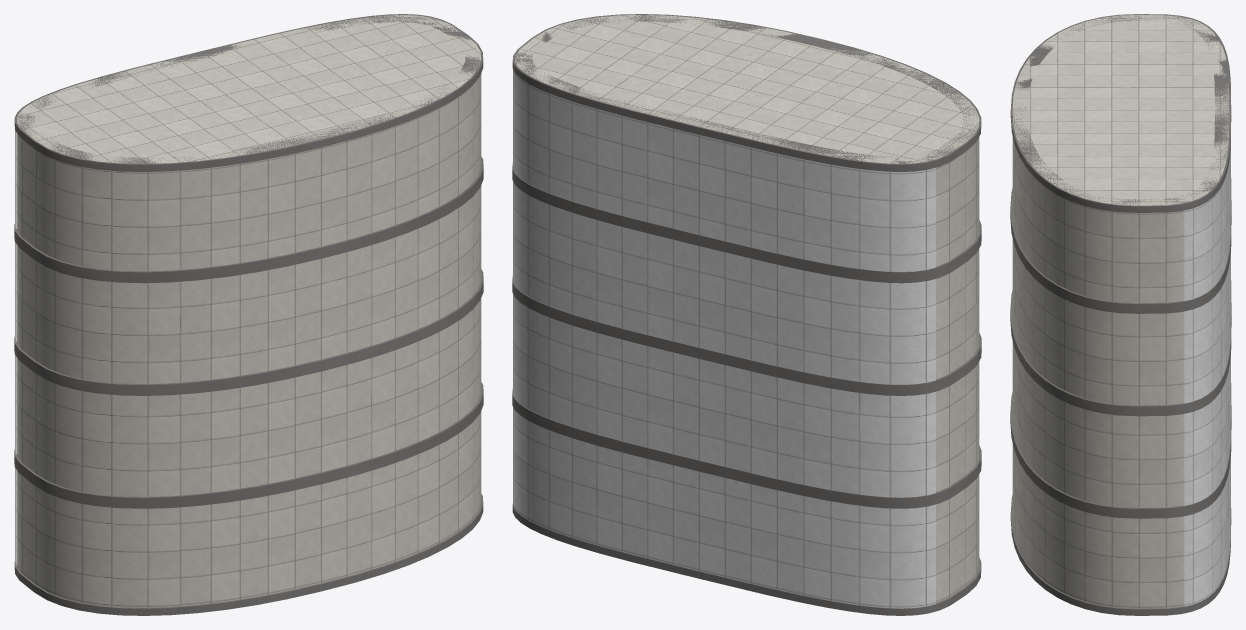
File: aero00_mk2_fuselage_structural_250.glb
3 views of the same model, side by side, from view 1: azimuth 30°, elevation 25°; view 2: azimuth 150°, elevation 25°; view 3: azimuth 270°, elevation 25° (orthographic). The views are drawn at different scales.
Visible parts, largest first — view 1: fuselage, ring_frames, end_frames, belly_tiles; view 2: belly_tiles, fuselage, ring_frames, end_frames; view 3: fuselage, belly_tiles, ring_frames, end_frames.
Part boxes in pixels (bbox=[...]): fuselage: bbox=[17, 15, 481, 607]; ring_frames: bbox=[14, 156, 483, 508]; end_frames: bbox=[14, 14, 483, 615]; belly_tiles: bbox=[15, 130, 17, 565]; belly_tiles: bbox=[513, 69, 935, 608]; fuselage: bbox=[515, 15, 979, 602]; ring_frames: bbox=[512, 163, 981, 508]; end_frames: bbox=[512, 14, 981, 615]; fuselage: bbox=[1012, 14, 1229, 608]; belly_tiles: bbox=[1184, 145, 1230, 606]; ring_frames: bbox=[1010, 178, 1231, 518]; end_frames: bbox=[1010, 14, 1231, 615].
Size of the model in its own units: 2.52 by 2.5 by 1.22.
Materials: 3 (3 with a texture image).
